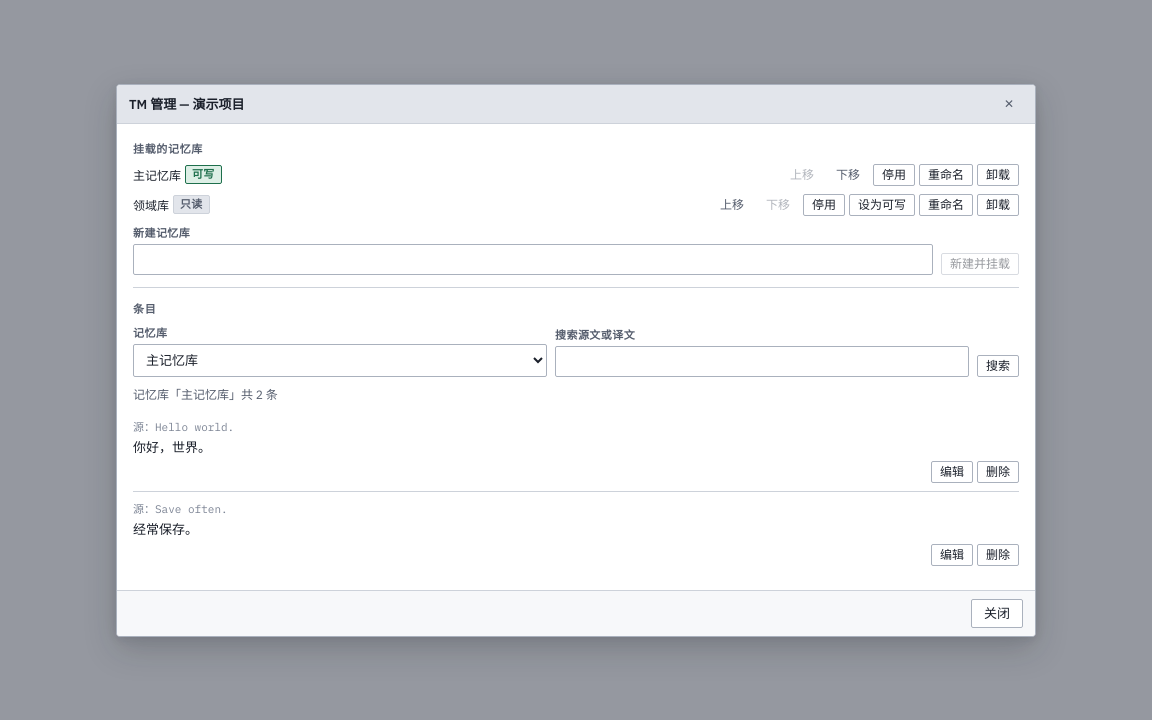
Test: TmManageDialog › disables a mount for the read path and re-enables it
Step 1. Click the button with aria-label "停用记忆库 领域库" → (824, 204), box x1=803 y1=194 x2=845 y2=216
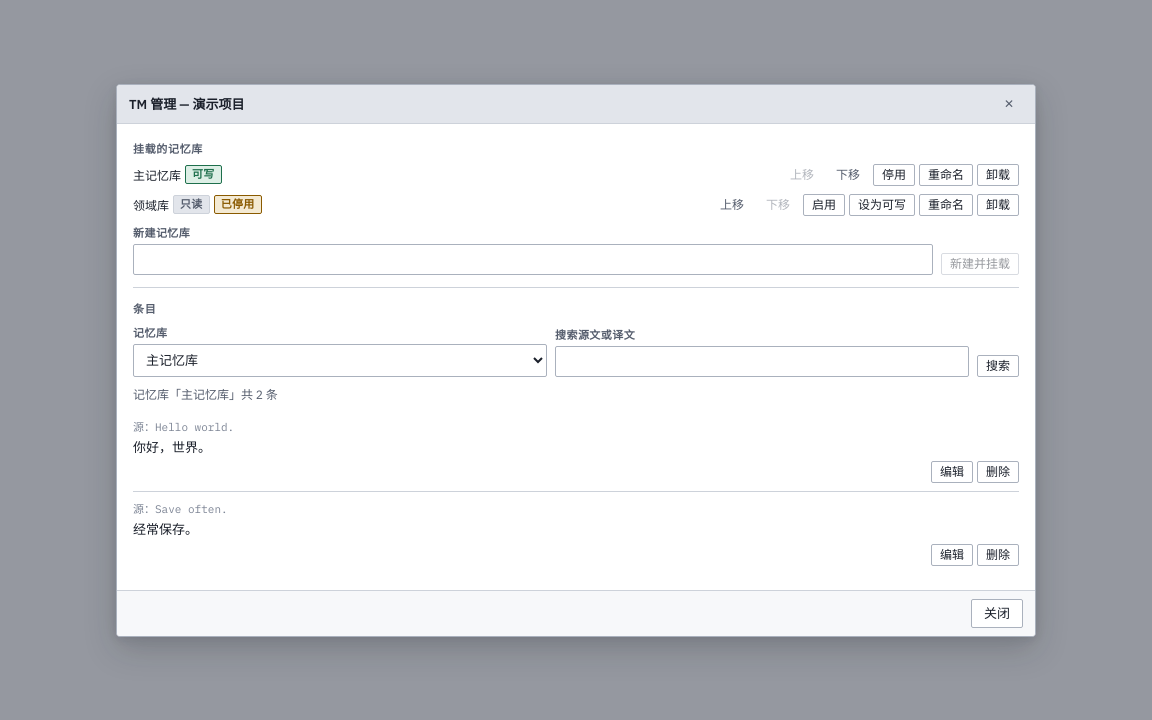
Check: the text "已停用" is shown, box x1=214 y1=195 x2=262 y2=214
Step 2. Click the button with aria-label "启用记忆库 领域库" → (824, 204), box x1=803 y1=194 x2=845 y2=216
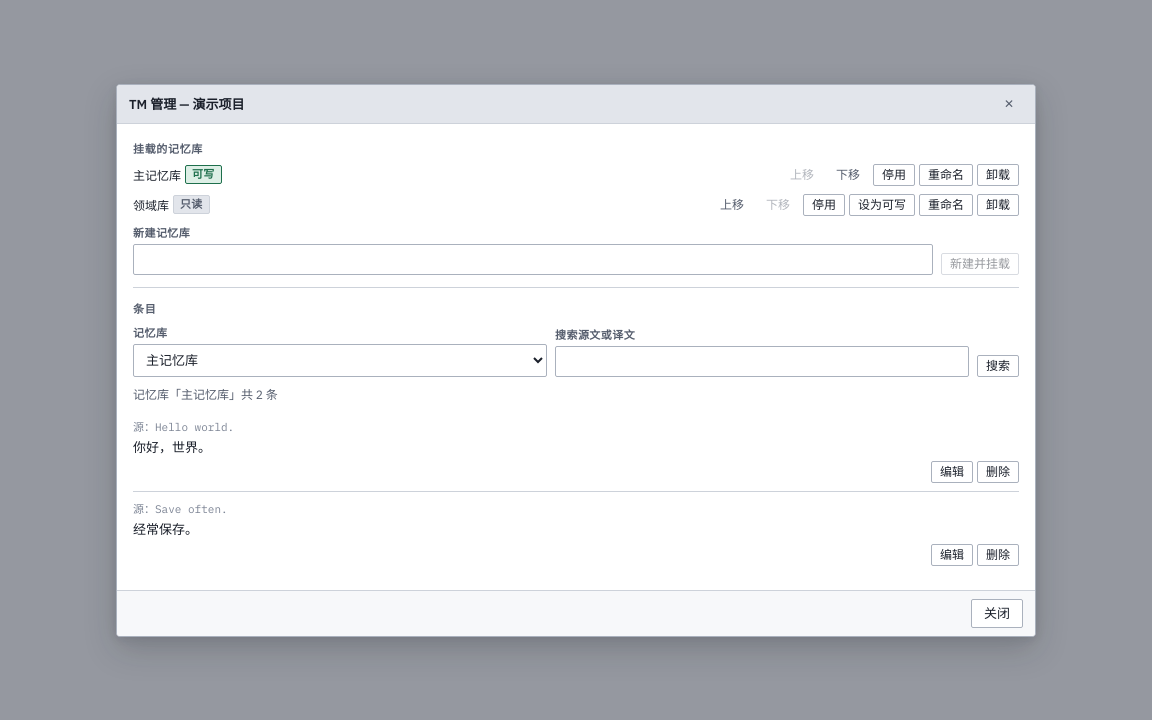
Check: the text "已停用" is gone
